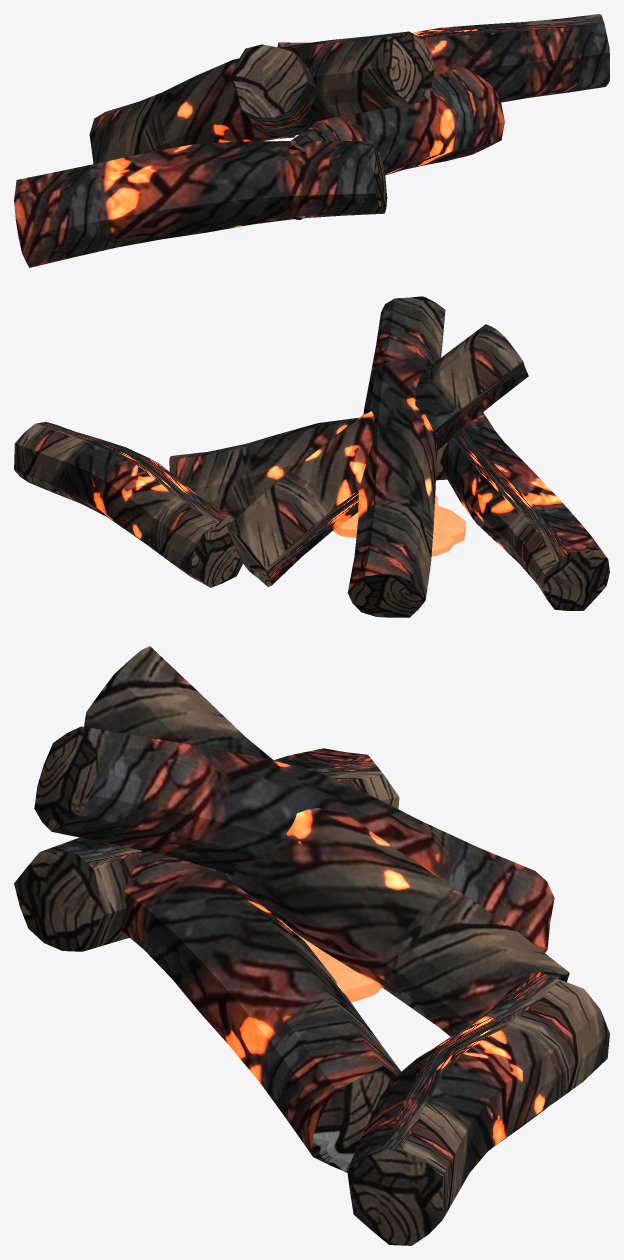
Rendered from cui-chay-do-3.glb.
3 views of the same model, one above another, from view 1: azimuth 30°, elevation 25°; view 2: azimuth 150°, elevation 25°; view 3: azimuth 270°, elevation 25° (orthographic). The views are drawn at different scales.
Parts seen in each view (by area): view 1: log; view 2: log; view 3: log.
Part boxes in pixels (x1=…): log: x1=14, y1=14, x2=609, y2=267; log: x1=14, y1=296, x2=609, y2=617; log: x1=14, y1=646, x2=609, y2=1245.
Size of the model in its own units: 0.9405 by 0.3364 by 0.5487.
Materials: 3 (2 with a texture image).
